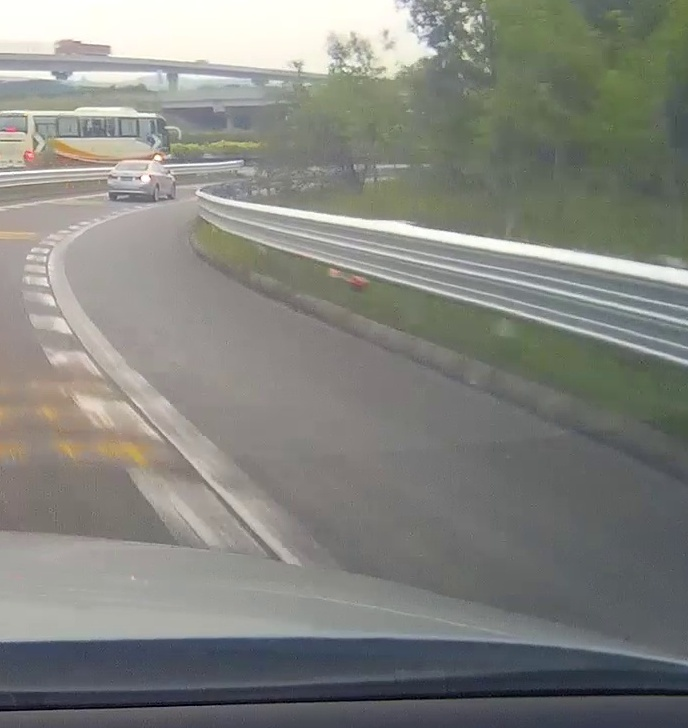L_light: (108, 174, 117, 179)
R_light: (135, 175, 151, 180)
T_light: (128, 162, 136, 163)
day-right: (107, 161, 152, 201)
